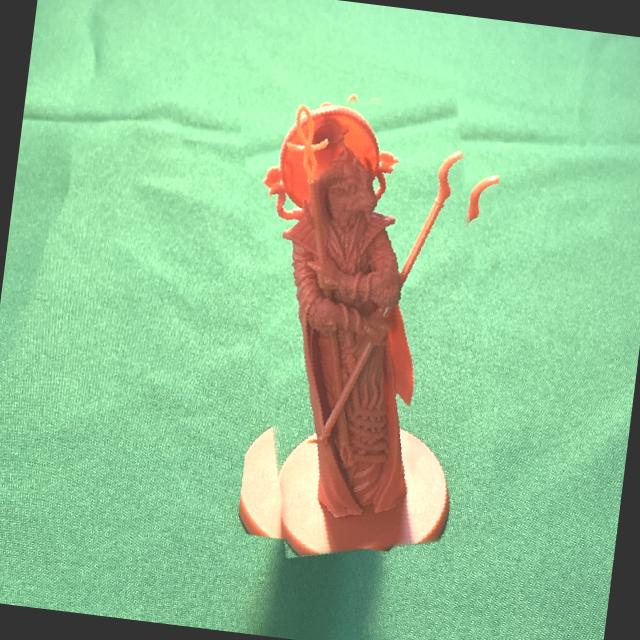amon: (210, 74, 532, 571)
